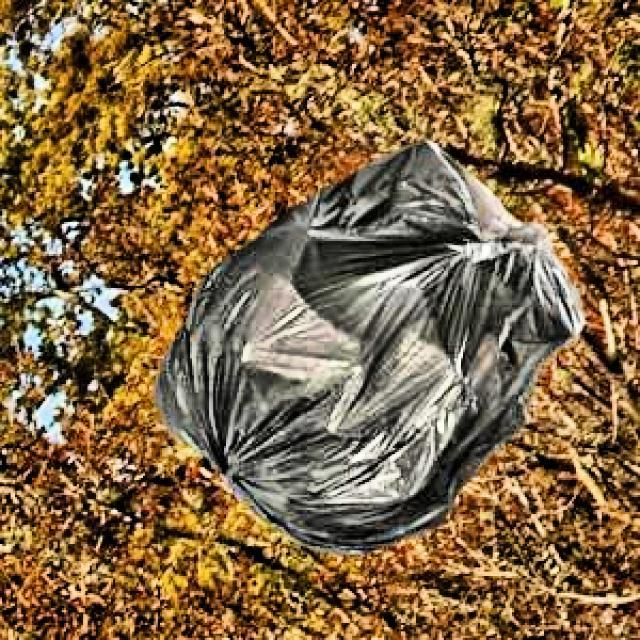Trashbag: (177, 363, 522, 538), (238, 173, 550, 365)
